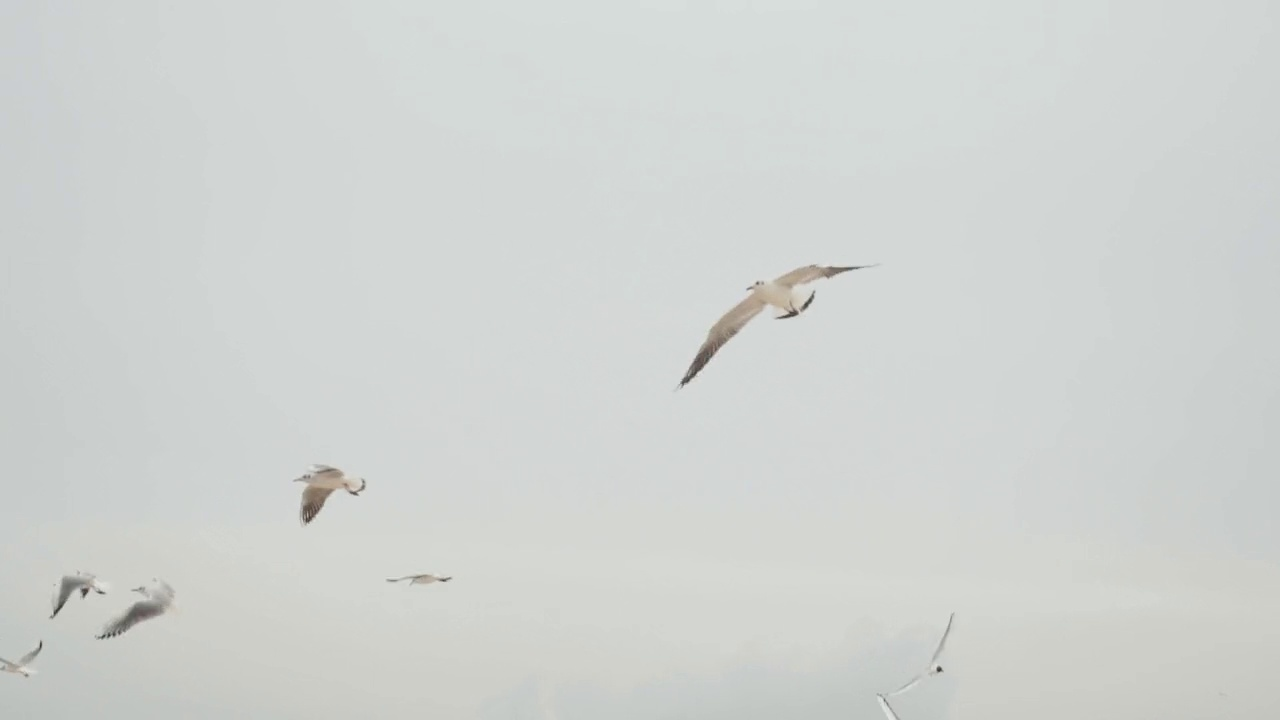bird: (677, 261, 881, 386), (888, 609, 956, 698), (292, 463, 369, 526), (96, 579, 176, 639), (45, 567, 104, 620), (1, 638, 43, 677), (384, 570, 448, 588)
